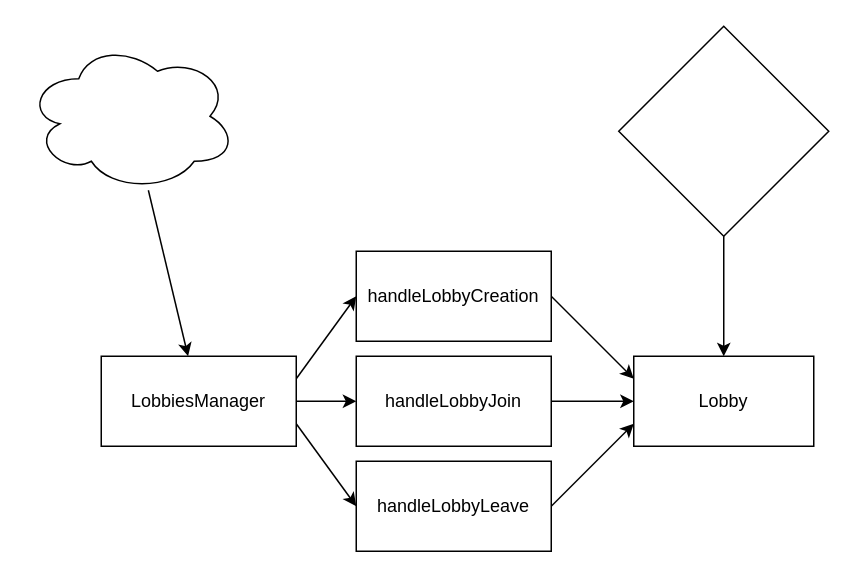
Image size: 855x578. Some labels were removed from this diagram. The centre of each missing label's shape, as x and y in pixels:
"Lobbies" goes at (723,130).
"User Interaction" goes at (130,115).
